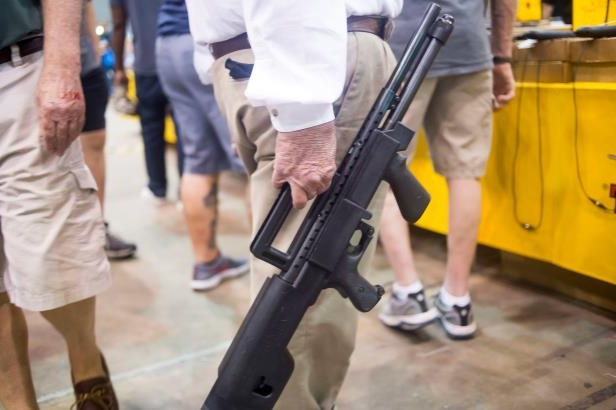Rifle: (199, 3, 457, 410)
